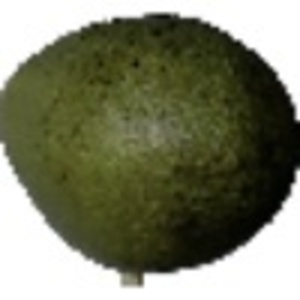abacate: (1, 7, 300, 272)
